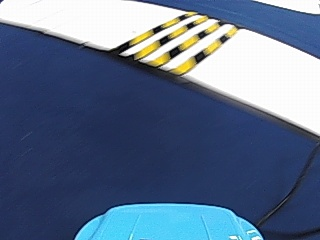bump: (114, 11, 218, 71)
